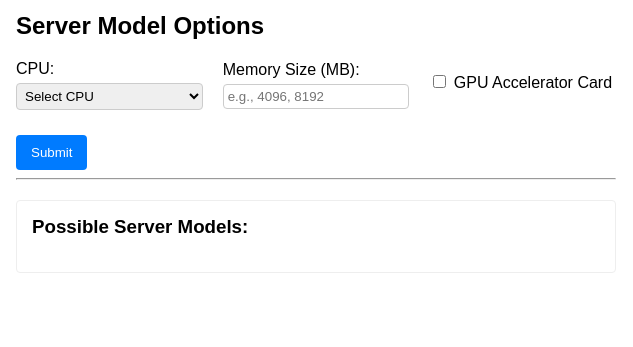
Scenario: App Component › displays "Tower Server or 4U Rack Server" (Example 3)
Select "X86" in the dropdown labelled "CPU:" at [109, 96], box [16, 83, 203, 110]
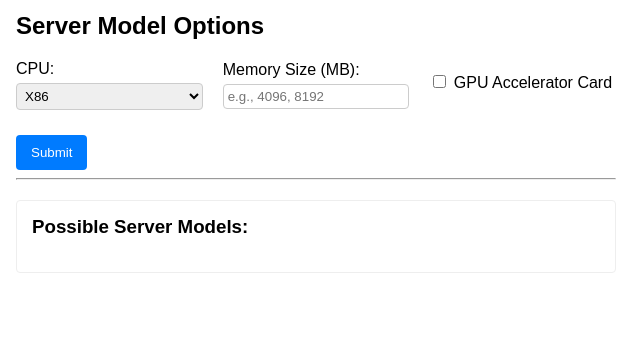
Type "524288" into the field labelled "Memory Size (MB):" at [316, 96], box [223, 84, 409, 109]
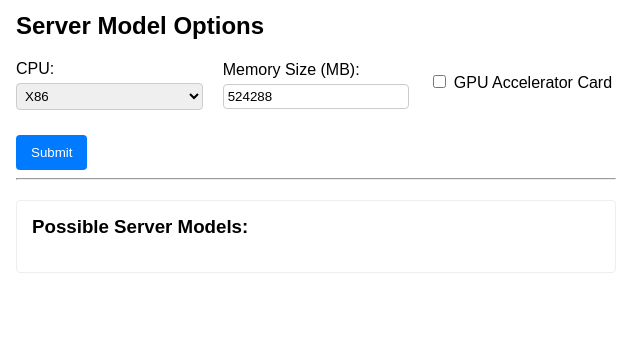
Click the button "Submit" at [52, 152], box [16, 135, 88, 170]
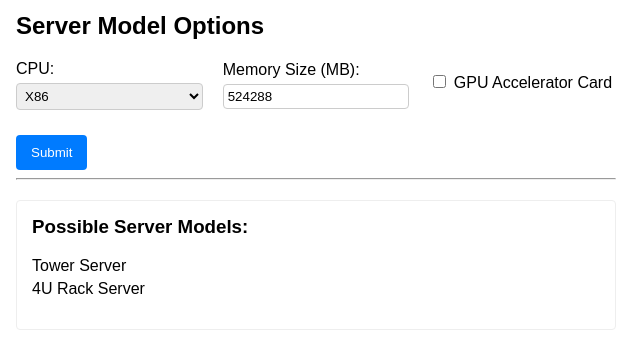
Check: the list item "Tower Server" is shown, box [32, 256, 126, 274]
Check: the list item "4U Rack Server" is shown, box [32, 280, 145, 296]
